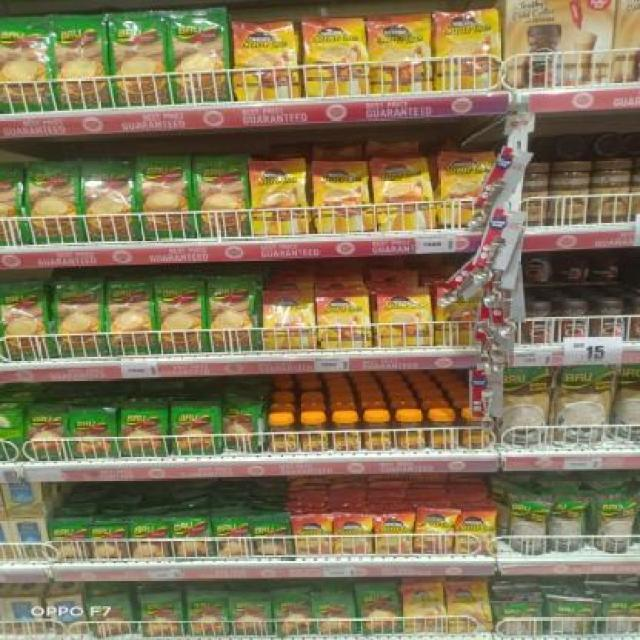Coffee: (304, 18, 368, 97), (235, 22, 298, 101), (369, 16, 432, 93), (436, 12, 498, 90), (250, 160, 308, 236), (313, 161, 370, 234), (374, 160, 432, 231), (438, 152, 491, 226), (317, 293, 371, 349), (261, 291, 314, 348), (378, 295, 432, 348), (436, 288, 478, 344), (446, 582, 489, 633), (403, 585, 446, 632), (416, 510, 453, 554), (457, 514, 494, 555), (294, 517, 332, 554), (375, 518, 412, 554), (338, 517, 370, 554), (523, 304, 550, 345), (393, 415, 424, 450), (595, 305, 626, 339), (428, 413, 458, 448), (364, 415, 394, 450), (268, 417, 298, 452), (301, 417, 330, 452), (462, 412, 489, 449), (560, 304, 588, 338), (331, 417, 358, 451)
